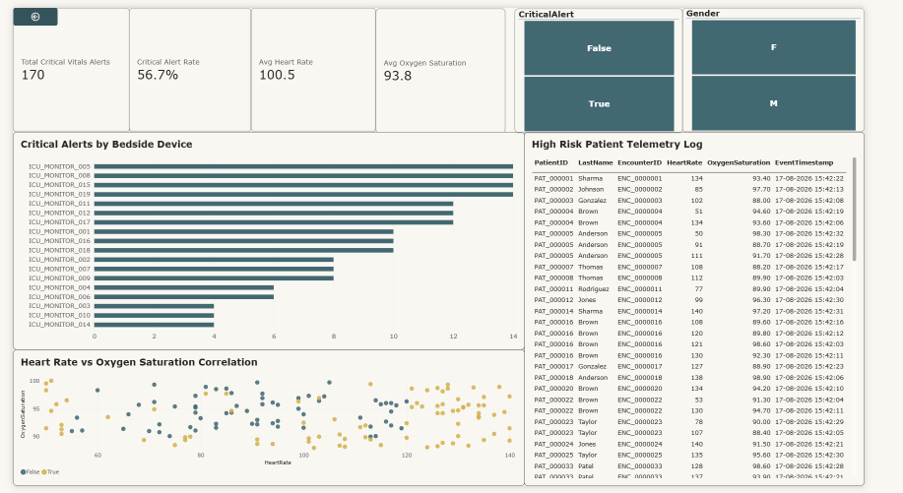

Layout of this report page (visuals, bound fields, positions):
{"tool":"powerbi","page":{"name":"Clinical Vitals & Patient Risk Analytics","canvas":[1920,1080],"ordinal":1},"visuals":[{"type":"cardVisual","fields":{"Data":["gold vw_Fact_VitalsTelemetry.Total Critical Vitals Alerts"]},"box":[0,0,262.5,279.8],"z":0},{"type":"cardVisual","fields":{"Data":["gold vw_Fact_VitalsTelemetry.Avg Heart Rate"]},"box":[537.1,0,281.6,279.8],"z":1000},{"type":"cardVisual","fields":{"Data":["gold vw_Fact_VitalsTelemetry.Avg Oxygen Saturation"]},"box":[818.6,1.7,292,281.6],"z":2000},{"type":"cardVisual","fields":{"Data":["gold vw_Fact_VitalsTelemetry.Critical Alert Rate"]},"box":[262.5,0,274.6,279.8],"z":3000},{"type":"clusteredBarChart","title":"Critical Alerts by Bedside Device","fields":{"Category":["gold vw_Fact_VitalsTelemetry.DeviceID"],"Y":["gold vw_Fact_VitalsTelemetry.Total Critical Vitals Alerts"]},"box":[0,279.8,1154.1,491.9],"z":4000},{"type":"scatterChart","title":"Heart Rate vs Oxygen Saturation Correlation","fields":{"Series":["gold vw_Fact_VitalsTelemetry.IsCriticalAlert"],"X":["gold vw_Fact_VitalsTelemetry.HeartRate"],"Y":["gold vw_Fact_VitalsTelemetry.OxygenSaturation"]},"box":[0,771.7,1154.1,307.6],"z":5000},{"type":"tableEx","title":"High Risk Patient Telemetry Log","fields":{"Values":["gold vw_Dim_Patient.PatientID","gold vw_Dim_Patient.LastName","gold vw_Fact_VitalsTelemetry.EncounterID","gold vw_Fact_VitalsTelemetry.HeartRate","gold vw_Fact_VitalsTelemetry.OxygenSaturation","gold vw_Fact_VitalsTelemetry.EventTimestamp"]},"box":[1154.1,279.8,766.5,799.5],"z":6000},{"type":"actionButton","box":[0,0,100,40],"z":7000},{"type":"slicer","fields":{"Values":["gold vw_Fact_VitalsTelemetry.IsCriticalAlert"]},"box":[1131.5,1.7,378.9,279.8],"z":8000},{"type":"slicer","fields":{"Values":["gold vw_Dim_Patient.Gender"]},"box":[1510.4,0,410.2,279.8],"z":9000}]}

Visuals, with their boxes on the page's 1920x1080 design canvas (x1, y1, x2, y2). These are canvas units, not pixel positions in the 903x493 screenshot, which may show the page scaled, cropped or inside an application window:
cardVisual - gold vw_Fact_VitalsTelemetry.Total Critical Vitals Alerts: bbox=[0, 0, 262, 280]
cardVisual - gold vw_Fact_VitalsTelemetry.Avg Heart Rate: bbox=[537, 0, 819, 280]
cardVisual - gold vw_Fact_VitalsTelemetry.Avg Oxygen Saturation: bbox=[819, 2, 1111, 283]
cardVisual - gold vw_Fact_VitalsTelemetry.Critical Alert Rate: bbox=[262, 0, 537, 280]
"Critical Alerts by Bedside Device" clusteredBarChart: bbox=[0, 280, 1154, 772]
"Heart Rate vs Oxygen Saturation Correlation" scatterChart: bbox=[0, 772, 1154, 1079]
"High Risk Patient Telemetry Log" tableEx: bbox=[1154, 280, 1921, 1079]
actionButton: bbox=[0, 0, 100, 40]
slicer - gold vw_Fact_VitalsTelemetry.IsCriticalAlert: bbox=[1132, 2, 1510, 282]
slicer - gold vw_Dim_Patient.Gender: bbox=[1510, 0, 1921, 280]
